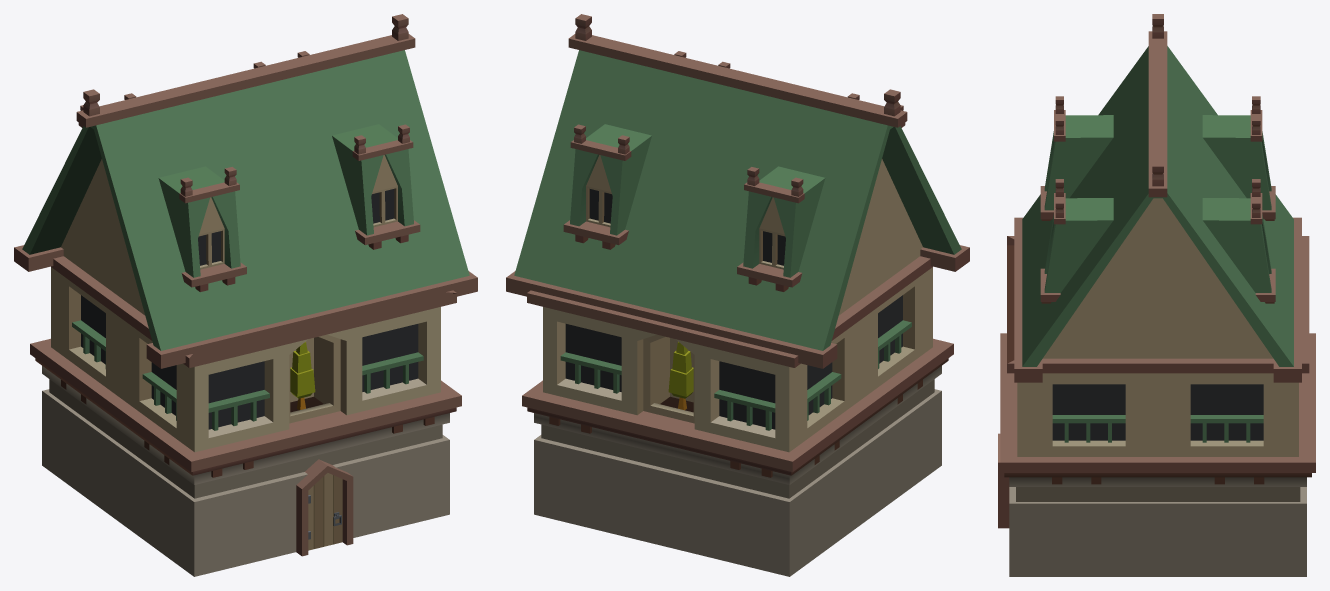
File: SF_Bld_Elven_House_02.fbx
3 views of the same model, side by side, from view 1: azimuth 30°, elevation 25°; view 2: azimuth 150°, elevation 25°; view 3: azimuth 270°, elevation 25° (orthographic). The views are drawn at different scales.
Visible parts, largest first — view 1: SF_Bld_Elven_House_02; view 2: SF_Bld_Elven_House_02; view 3: SF_Bld_Elven_House_02.
Boxes of the visible parts, bbox=[...] form: SF_Bld_Elven_House_02: bbox=[14, 14, 477, 576]; SF_Bld_Elven_House_02: bbox=[506, 14, 969, 576]; SF_Bld_Elven_House_02: bbox=[998, 14, 1315, 576].
Bounding box in the file's own units: 17.97 × 22.69 × 15.34.
